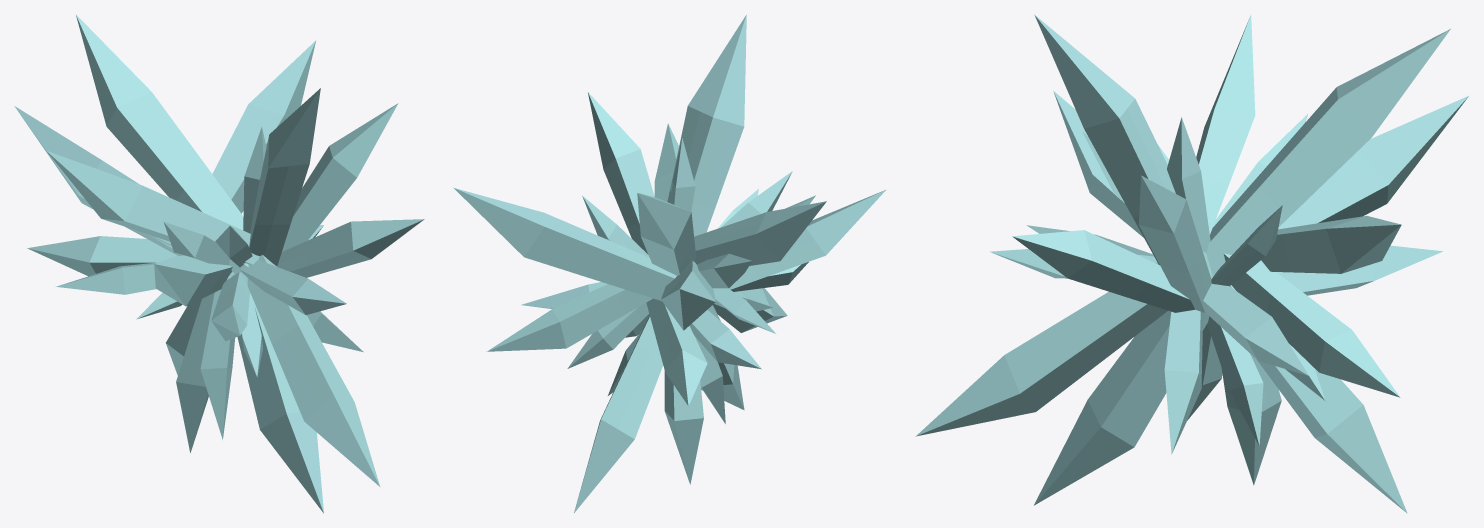
The model's file is IceCrystals_3.fbx.
3 renders of one model, left to right at view 1: azimuth 30°, elevation 25°; view 2: azimuth 150°, elevation 25°; view 3: azimuth 270°, elevation 25°, orthographic. The views are drawn at different scales.
Visible parts, largest first — view 1: IceCrystal_3; view 2: IceCrystal_3; view 3: IceCrystal_3.
Part boxes in pixels (box(x1,y1,x2,y2)): IceCrystal_3: box(14, 15, 424, 513); IceCrystal_3: box(454, 15, 885, 512); IceCrystal_3: box(915, 14, 1469, 513).
Size of the model in its own units: 917 by 1116 by 1141.
